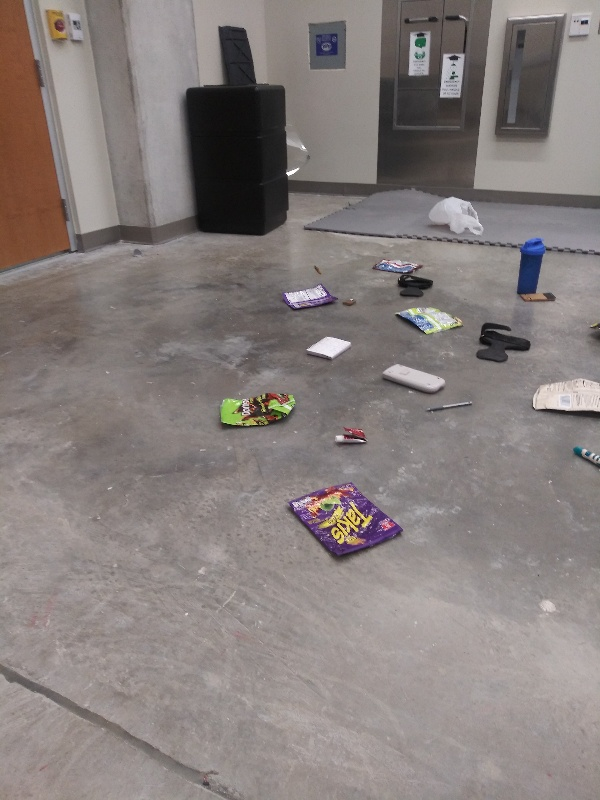bag: (280, 477, 409, 563), (214, 386, 303, 431), (530, 377, 600, 418), (391, 304, 468, 337), (276, 282, 340, 315), (371, 255, 428, 276)
